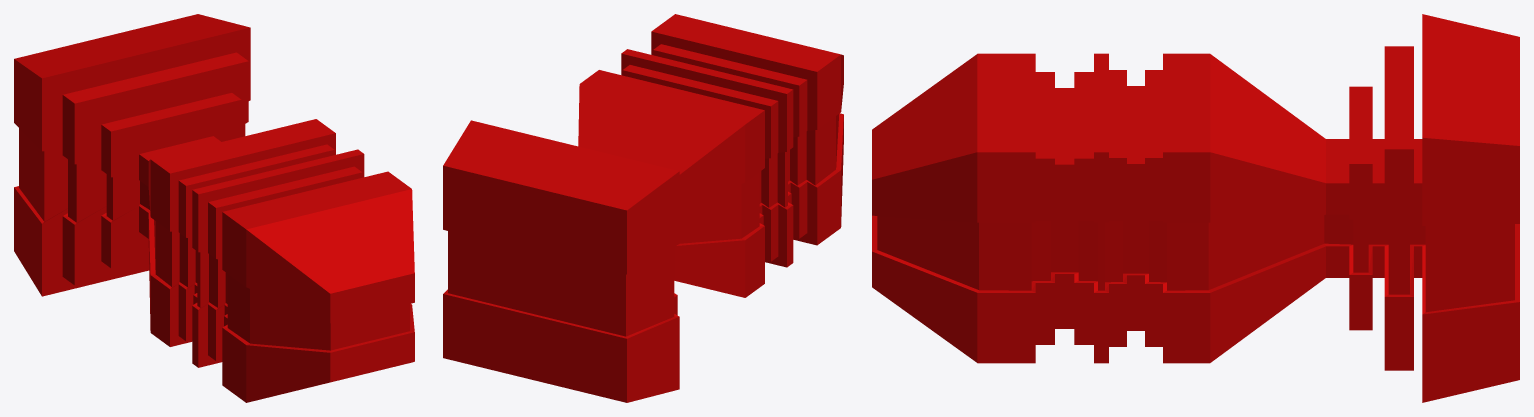
Rendered from nuclear(r).obj.
The picture shows the model from 3 angles, left to right: view 1: azimuth 30°, elevation 25°; view 2: azimuth 150°, elevation 25°; view 3: azimuth 270°, elevation 25°; orthographic projection. The views are drawn at different scales.
Visible parts, largest first — view 1: Cube; view 2: Cube; view 3: Cube.
Part boxes in pixels (<box>): Cube: <box>14,14,414,402</box>; Cube: <box>443,14,843,402</box>; Cube: <box>872,14,1519,402</box>.
Size of the model in its own units: 2.51 by 2.51 by 5.57.
